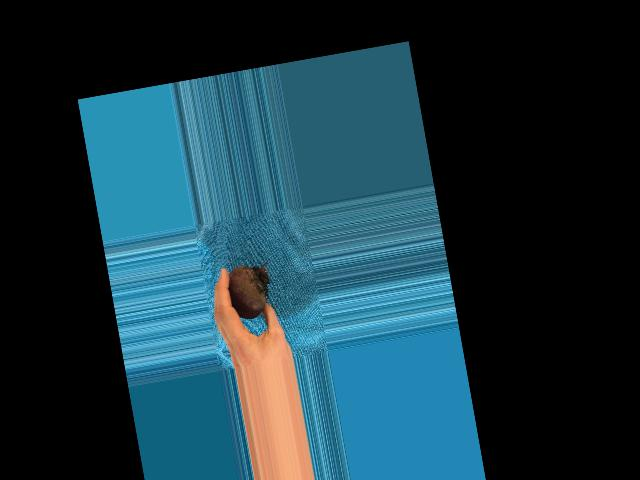beet: (225, 261, 276, 321)
